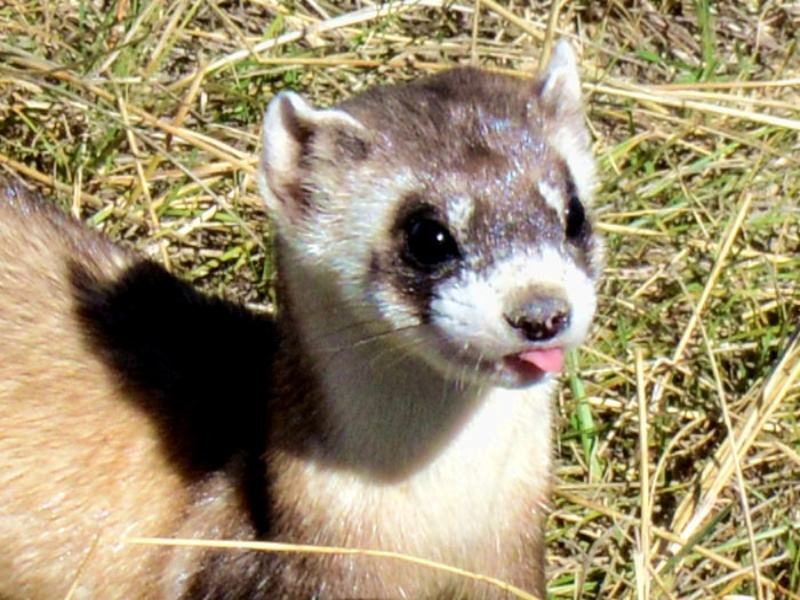minkish: (1, 50, 608, 599)
